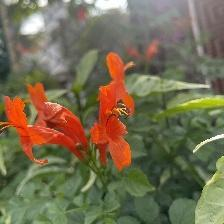honeysuckle: (92, 46, 140, 176)
